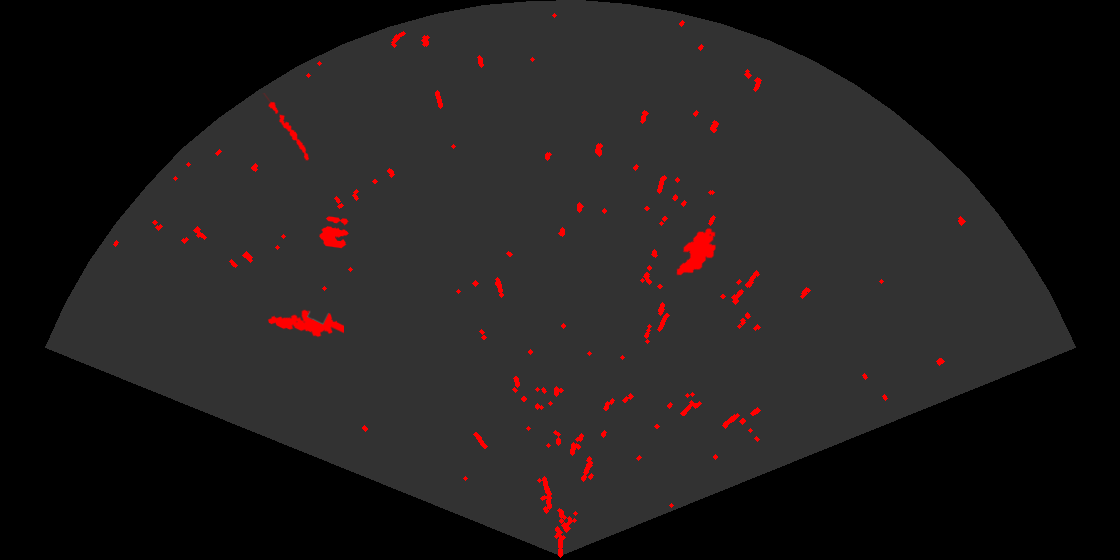AUV: (675, 226, 718, 277)
ball: (318, 215, 350, 250)
chain: (262, 93, 311, 162)
frogman: (266, 308, 344, 339)
